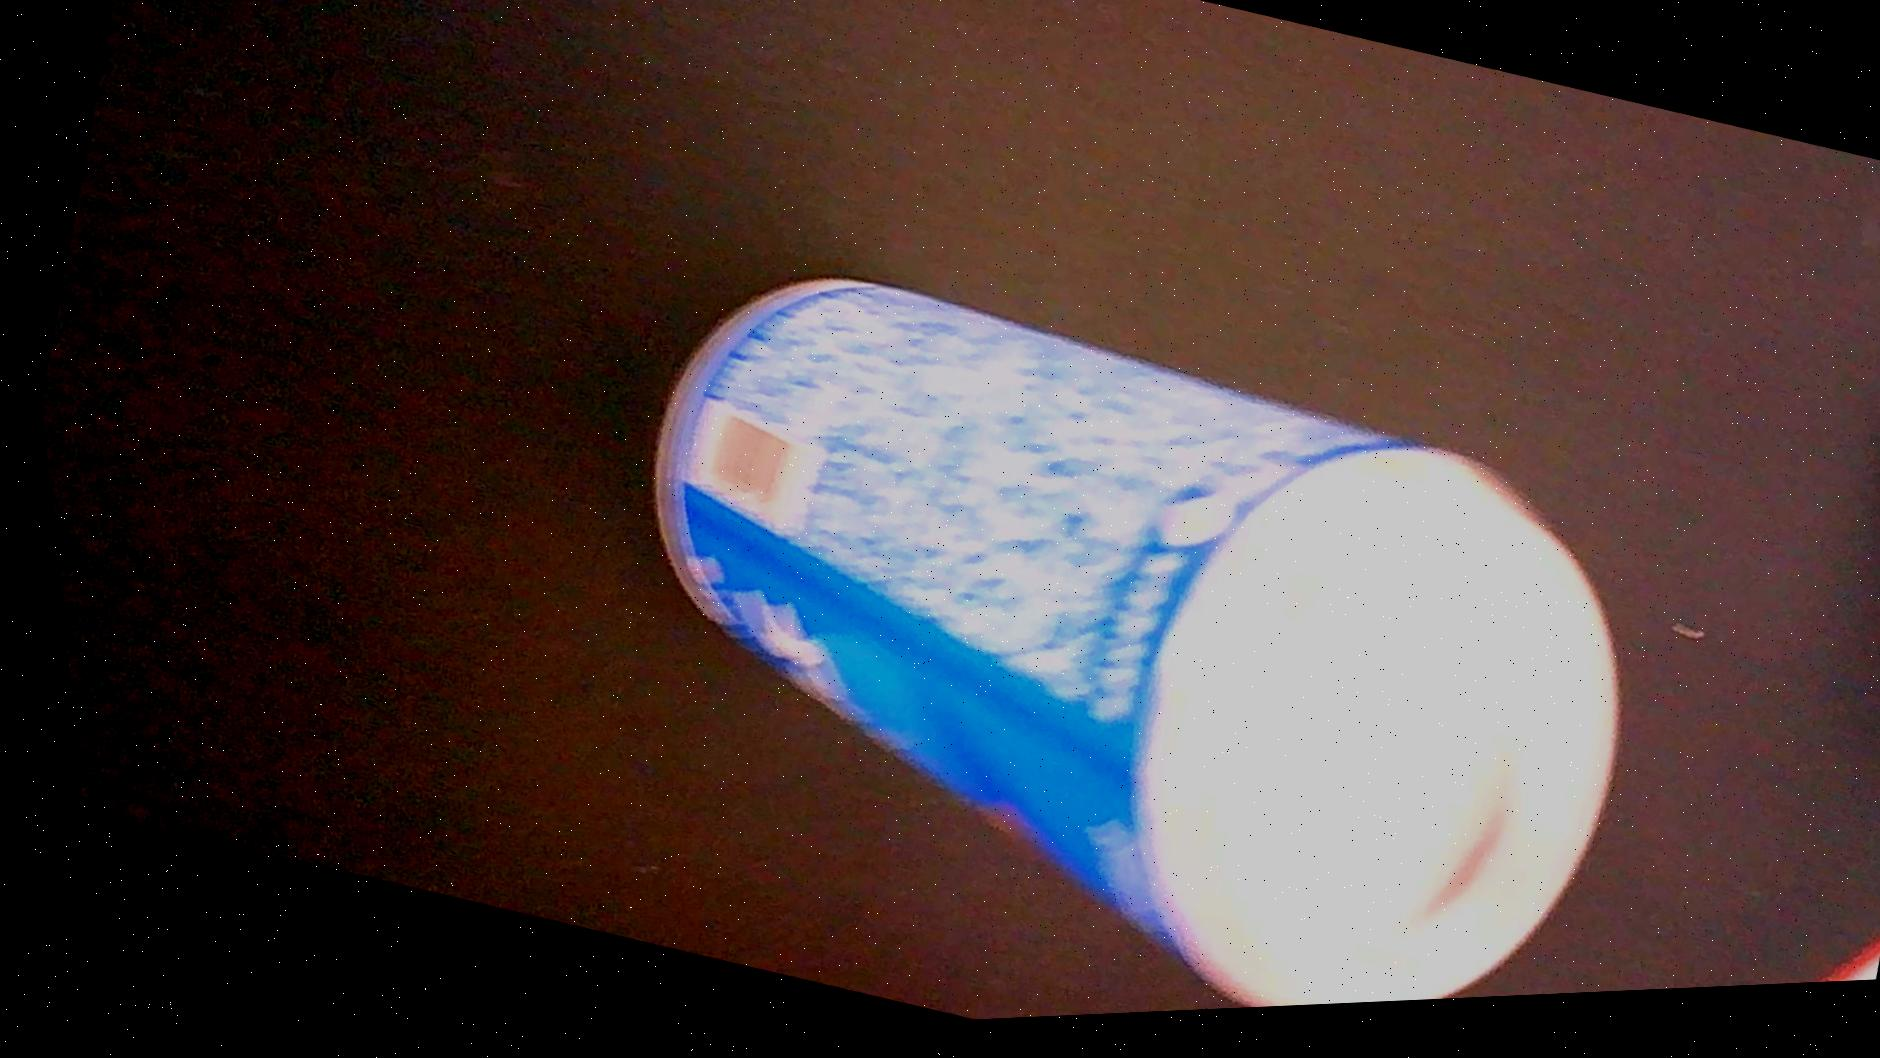letsbe: (516, 213, 1698, 1041)
